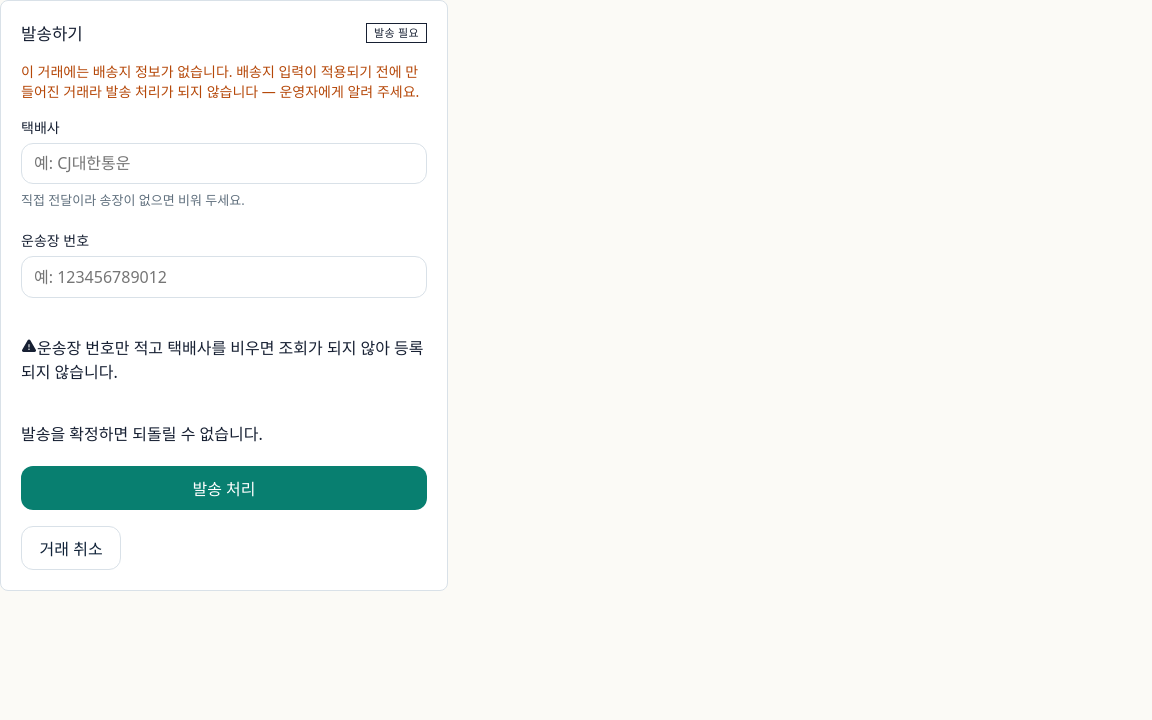
it: ShipmentPanel › 거래 취소 › 발송 전에는 취소할 수 있다
Step 1. Click the button "거래 취소" → (71, 548), box [21,526,121,570]
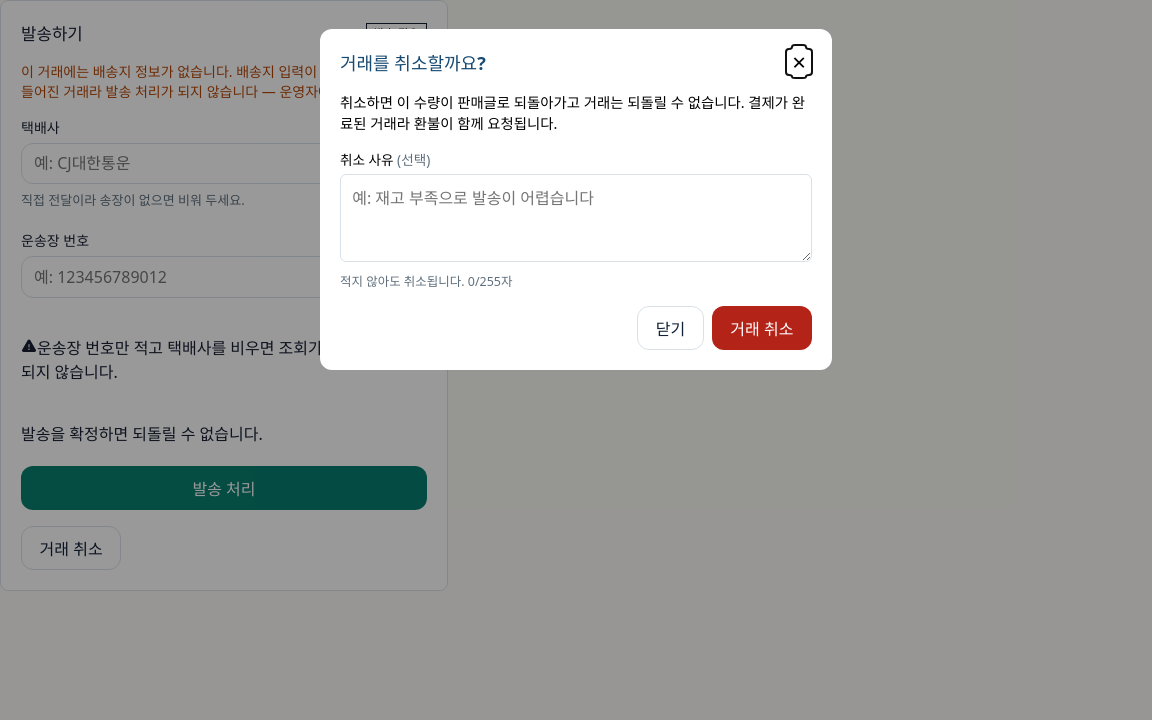
Expected: the text box labelled "취소 사유 (선택)" is shown, [340,174,812,262]
